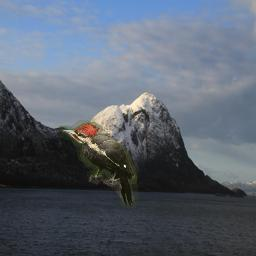Woodpecker: (59, 120, 141, 208)
